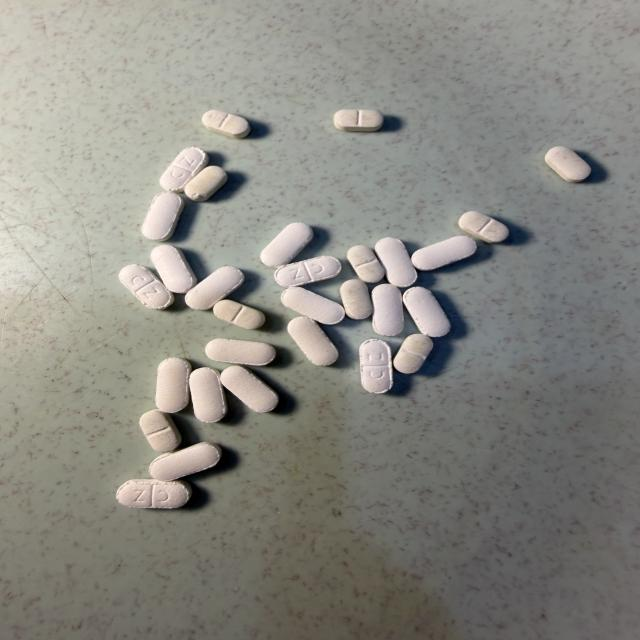pill: (150, 442, 221, 480), (221, 366, 278, 412), (185, 266, 244, 310), (119, 265, 174, 309), (288, 317, 338, 365), (281, 287, 344, 324), (403, 287, 450, 336), (261, 223, 313, 267), (151, 245, 197, 293), (412, 236, 476, 270), (160, 147, 208, 192), (117, 479, 191, 508), (142, 192, 184, 241), (375, 238, 417, 287), (189, 368, 227, 422), (275, 256, 341, 287), (156, 358, 191, 413), (205, 339, 275, 365), (360, 339, 393, 393), (140, 410, 181, 452), (372, 284, 404, 336), (545, 146, 591, 182), (459, 211, 508, 243), (213, 300, 265, 329), (184, 166, 227, 201), (394, 334, 432, 373), (347, 245, 384, 283), (202, 110, 250, 138), (340, 280, 372, 319), (334, 110, 383, 131)
